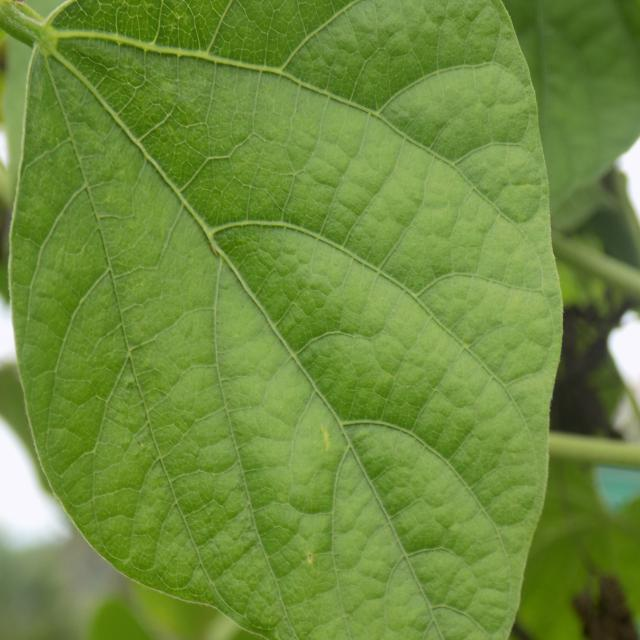Dolicos bean_healthy: (10, 0, 558, 640)
